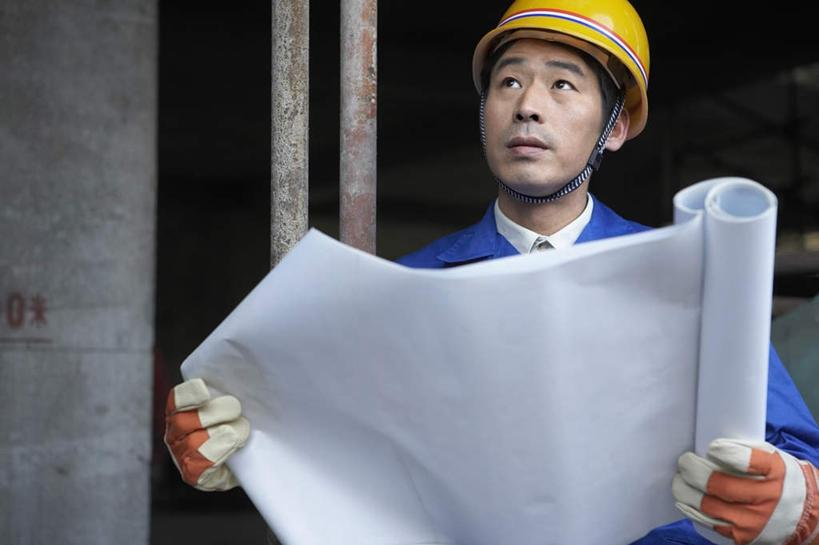helmet: (473, 0, 655, 147)
